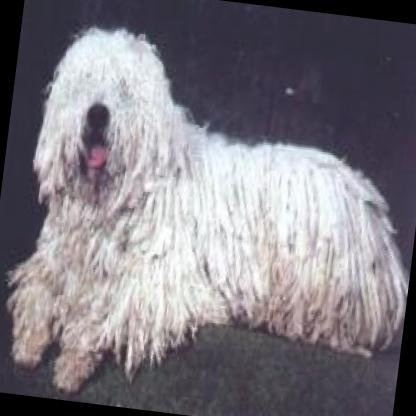komondor: (0, 14, 416, 416)
